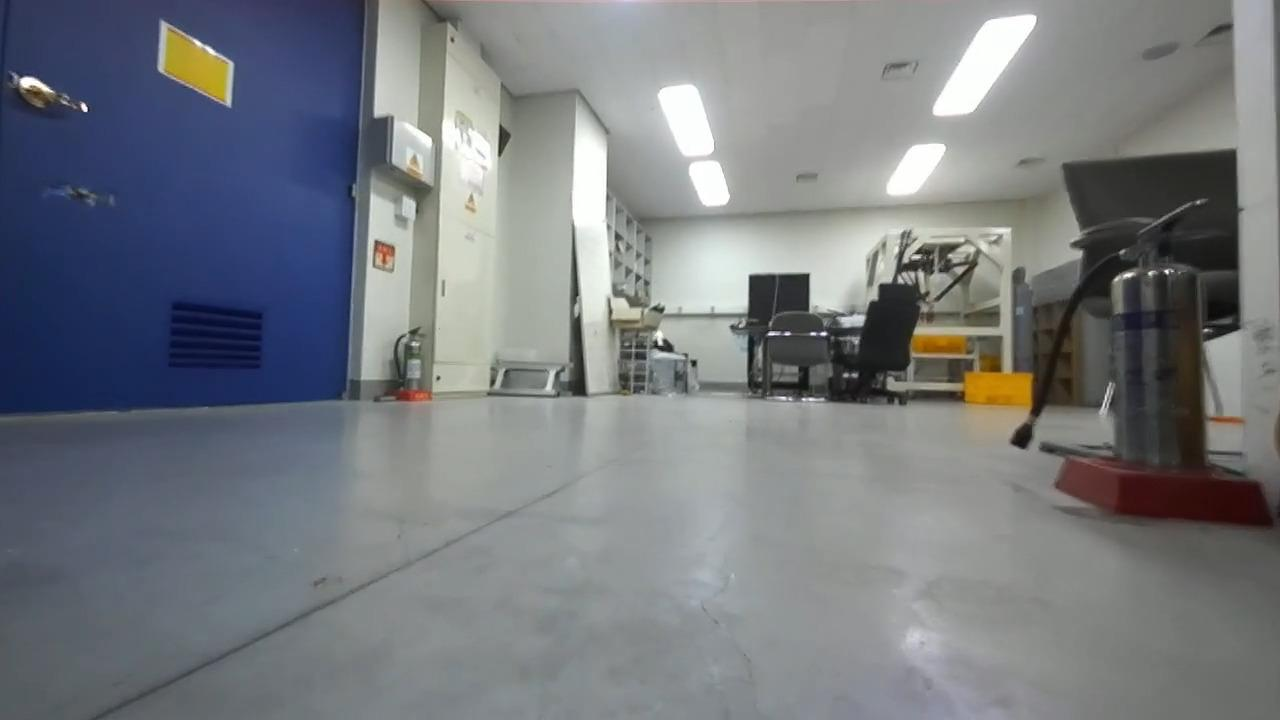crazyflie: (41, 177, 118, 213)
